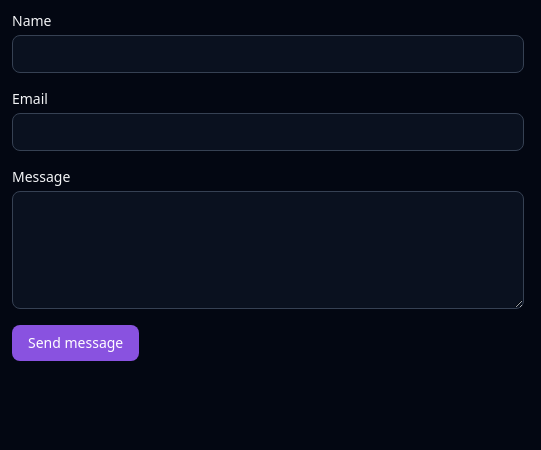
Test: <ContactForm /> › shows a validation error per field when submitted empty
The image size is (541, 450).
Click the button "Send message".
click(76, 343)  # box [12,325,139,361]
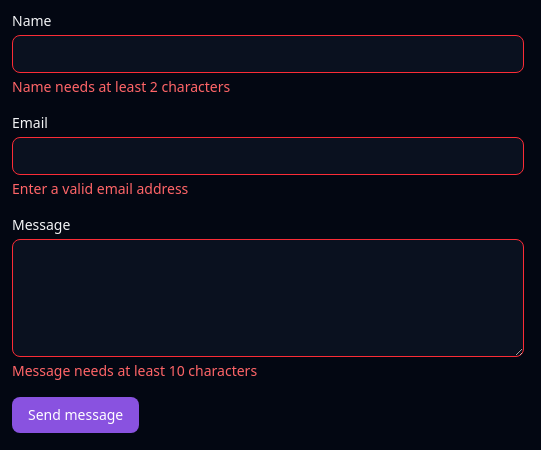
Expected: the number of messages is 3, [12,77,230,96]; [12,179,188,198]; [12,361,257,380]
